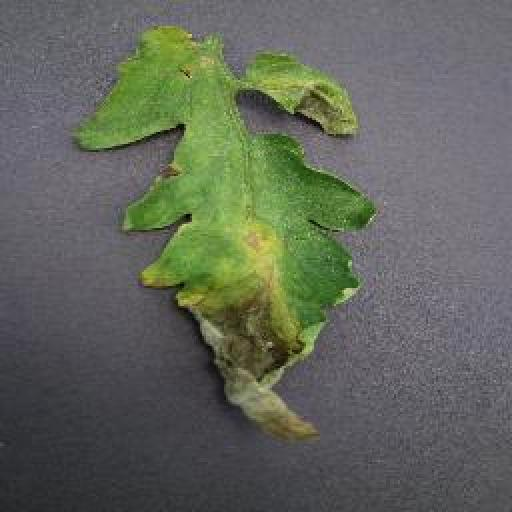disease_tomato: (78, 24, 378, 446)
